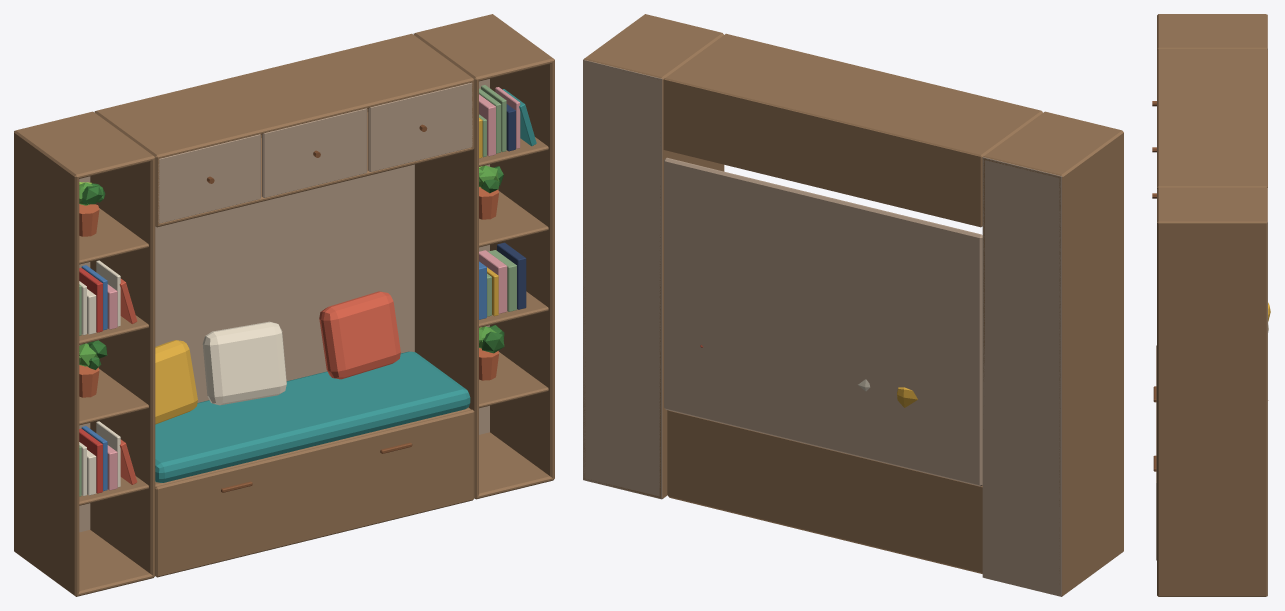
File: cushioned_bench.glb
3 views of the same model, side by side, from view 1: azimuth 30°, elevation 25°; view 2: azimuth 150°, elevation 25°; view 3: azimuth 270°, elevation 25° (orthographic). The views are drawn at different scales.
Visible parts, largest first — view 1: cushioned_bench_Body; view 2: cushioned_bench_Body; view 3: cushioned_bench_Body.
Boxes of the visible parts, x1,y1,x2,y2 form: cushioned_bench_Body: [14, 14, 554, 596]; cushioned_bench_Body: [583, 14, 1123, 596]; cushioned_bench_Body: [1152, 14, 1270, 596].
Bounding box in the file's own units: 2.5 × 2.1 × 0.6.
